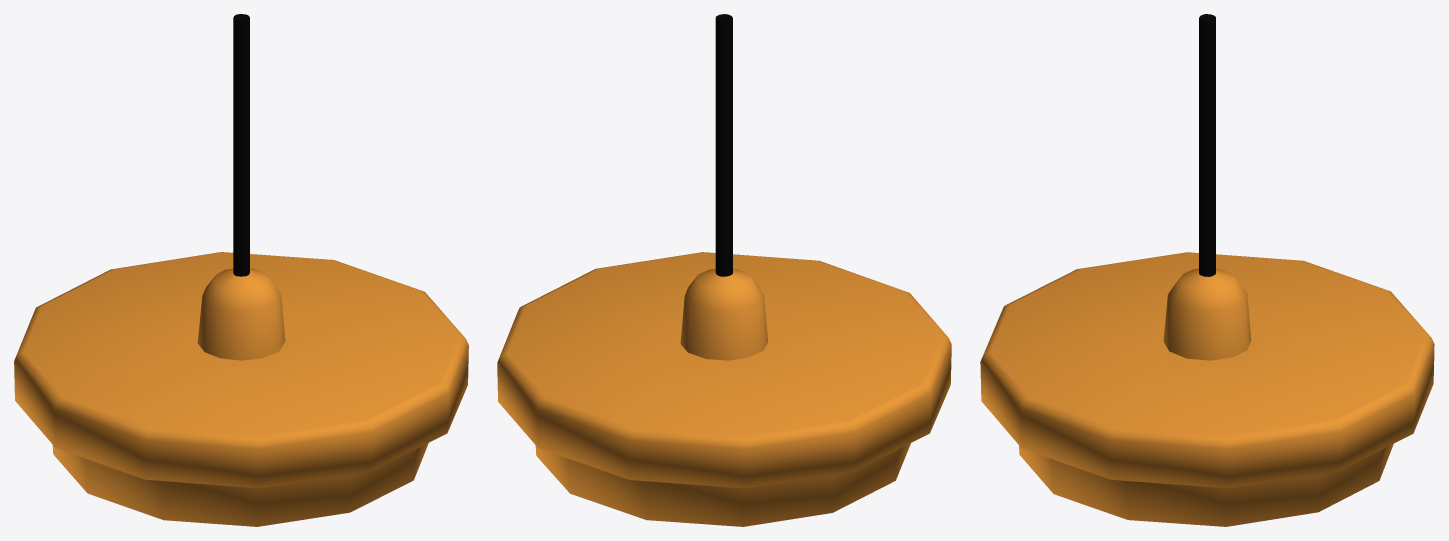
File: SM_Lustre.fbx
3 views of the same model, side by side, from view 1: azimuth 30°, elevation 25°; view 2: azimuth 150°, elevation 25°; view 3: azimuth 270°, elevation 25° (orthographic).
Visible parts, largest first — view 1: Lustre; view 2: Lustre; view 3: Lustre.
Part boxes in pixels (box(x1,y1,x2,y2)): Lustre: box(14, 14, 468, 526); Lustre: box(497, 14, 951, 526); Lustre: box(980, 14, 1434, 526).
Bounding box in the file's own units: 642 × 742 × 642.
